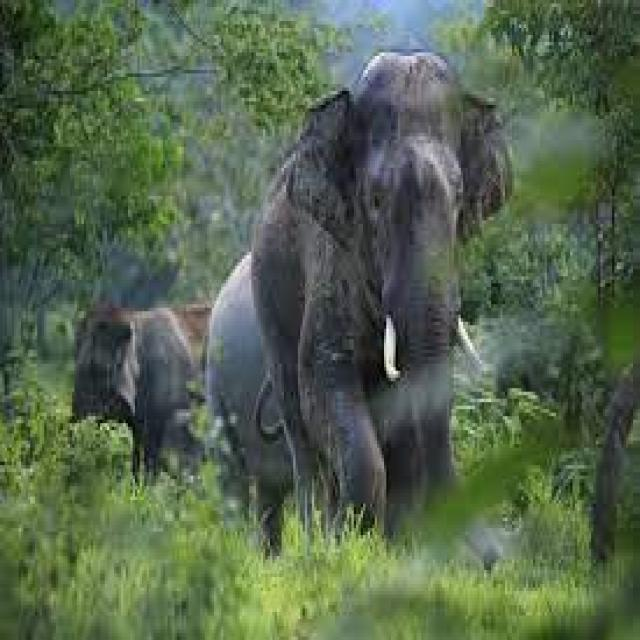Elephant: (244, 57, 520, 552), (62, 276, 245, 500)
